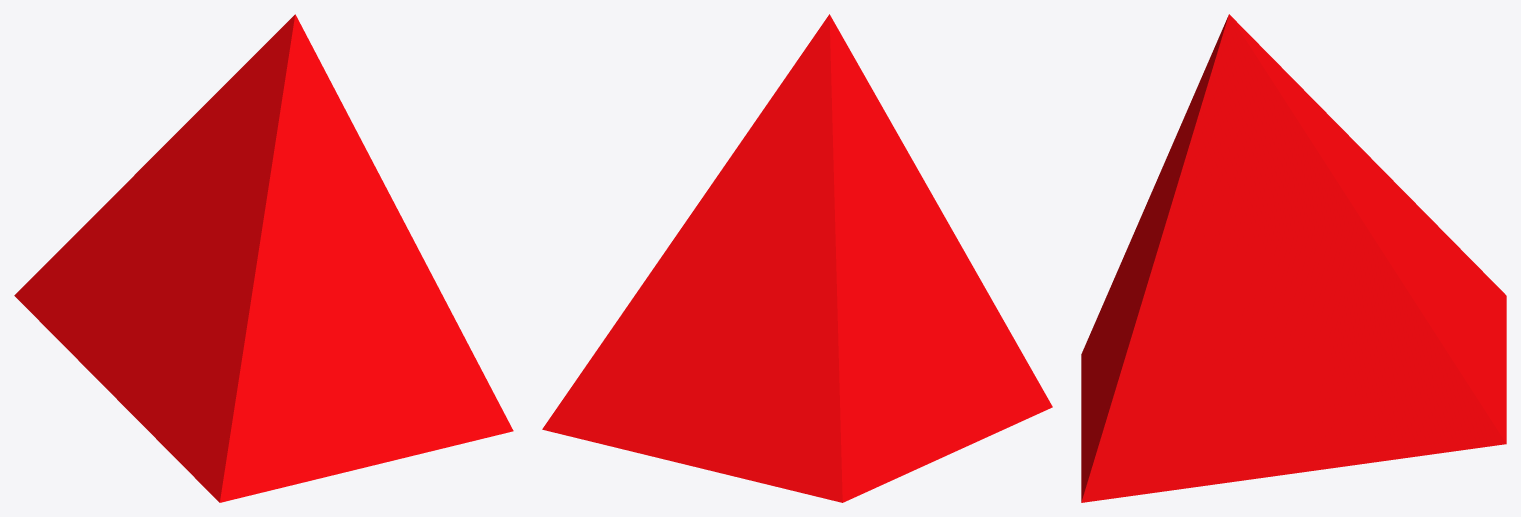
Rendered from diken.fbx.
3 renders of one model, left to right at view 1: azimuth 30°, elevation 25°; view 2: azimuth 150°, elevation 25°; view 3: azimuth 270°, elevation 25°, orthographic. The views are drawn at different scales.
Parts seen in each view (by area): view 1: root; view 2: root; view 3: root.
Boxes of the visible parts, <box> form: root: <box>14,14,513,502</box>; root: <box>542,14,1052,502</box>; root: <box>1081,14,1506,502</box>.
Bounding box in the file's own units: 0.1724 × 0.2246 × 0.2087.
1 material, 1 textured.
